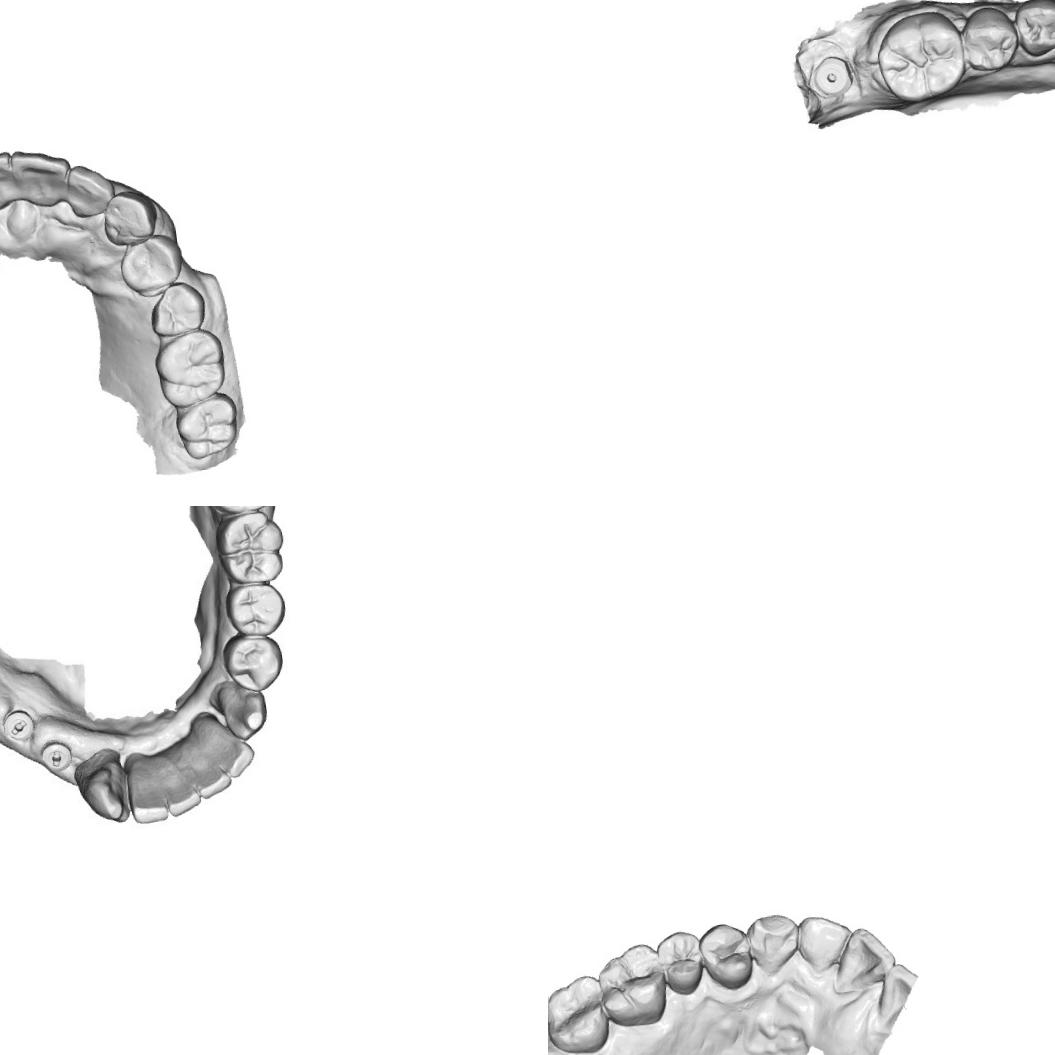canine: (213, 674, 276, 743), (744, 911, 804, 978), (100, 187, 162, 249), (79, 754, 129, 823)
implant: (807, 53, 860, 96)
implant_minus: (30, 733, 75, 778), (0, 703, 36, 751)
incisor: (825, 922, 900, 996), (10, 144, 75, 212), (794, 910, 856, 976), (198, 716, 255, 782), (123, 751, 170, 824), (63, 160, 118, 220), (178, 733, 227, 799), (156, 752, 202, 814), (0, 148, 16, 216)
molar: (872, 12, 970, 110), (594, 940, 671, 1031), (150, 325, 230, 409), (548, 970, 613, 1055), (170, 387, 243, 462), (218, 512, 284, 588)
premolar: (115, 230, 189, 302), (695, 920, 757, 994), (145, 278, 210, 340), (654, 928, 708, 998), (960, 7, 1018, 68), (226, 579, 288, 636), (223, 630, 281, 688), (1012, 0, 1055, 61)
